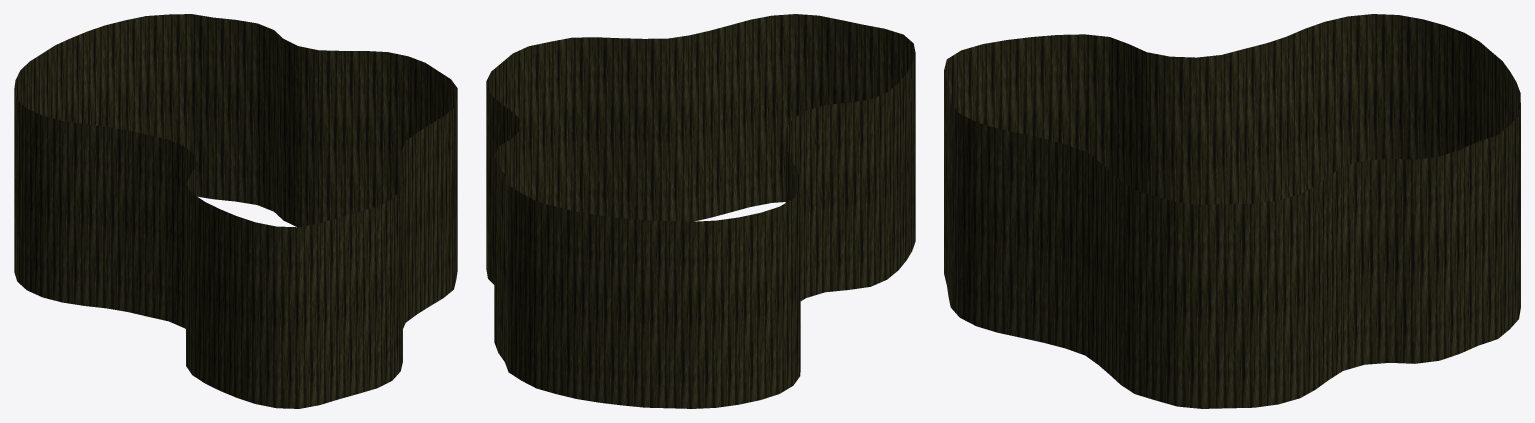
Rendered from wall.fbx.
The picture shows the model from 3 angles, left to right: view 1: azimuth 30°, elevation 25°; view 2: azimuth 150°, elevation 25°; view 3: azimuth 270°, elevation 25°; orthographic projection. The views are drawn at different scales.
Visible parts, largest first — view 1: Plane; view 2: Plane; view 3: Plane.
Part boxes in pixels (x1,y1,x2,y2): Plane: (14, 14, 457, 408); Plane: (486, 14, 915, 408); Plane: (944, 14, 1520, 408).
Bounding box in the file's own units: 14031 × 6997 × 17917.
